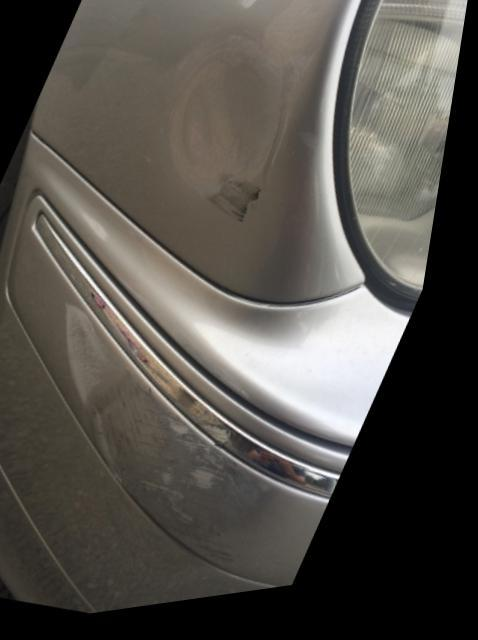dent: (172, 45, 290, 207)
scratch: (72, 304, 287, 570), (223, 185, 269, 229)
